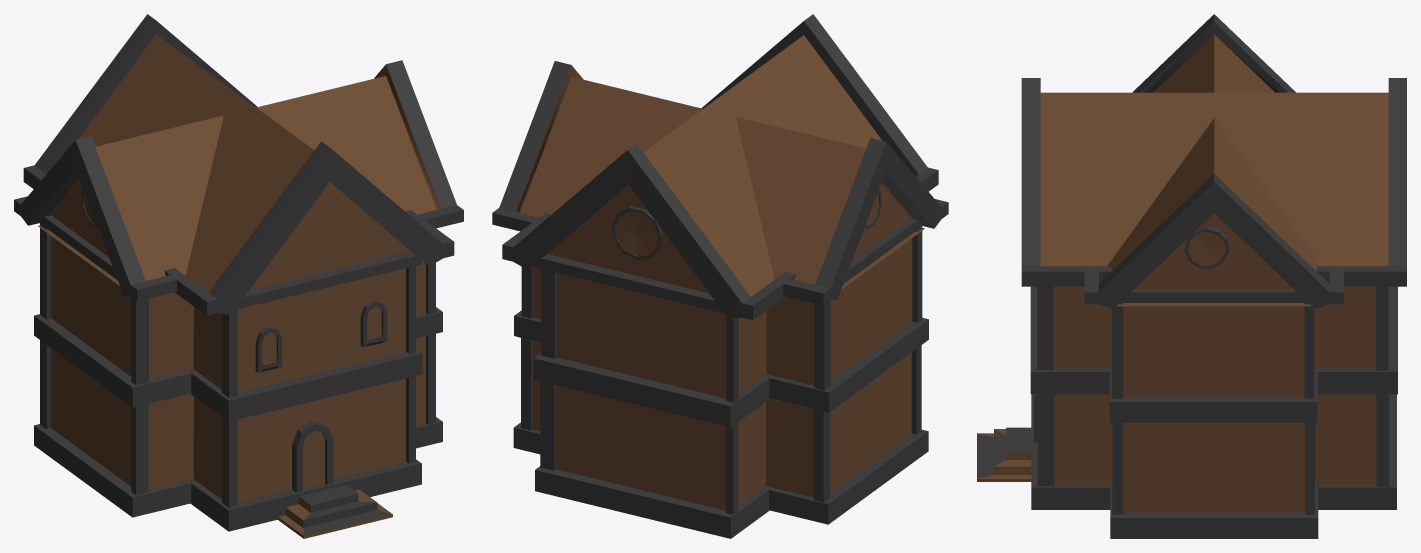
The model's file is house 1.fbx.
3 renders of one model, left to right at view 1: azimuth 30°, elevation 25°; view 2: azimuth 150°, elevation 25°; view 3: azimuth 270°, elevation 25°, orthographic. The views are drawn at different scales.
Parts seen in each view (by area): view 1: house 1.012; view 2: house 1.012; view 3: house 1.012.
Boxes of the visible parts, box(x1,y1,x2,y2) form: house 1.012: box(14, 14, 463, 538); house 1.012: box(492, 14, 948, 538); house 1.012: box(977, 14, 1406, 538).
Size of the model in its own units: 163 by 173 by 176.
